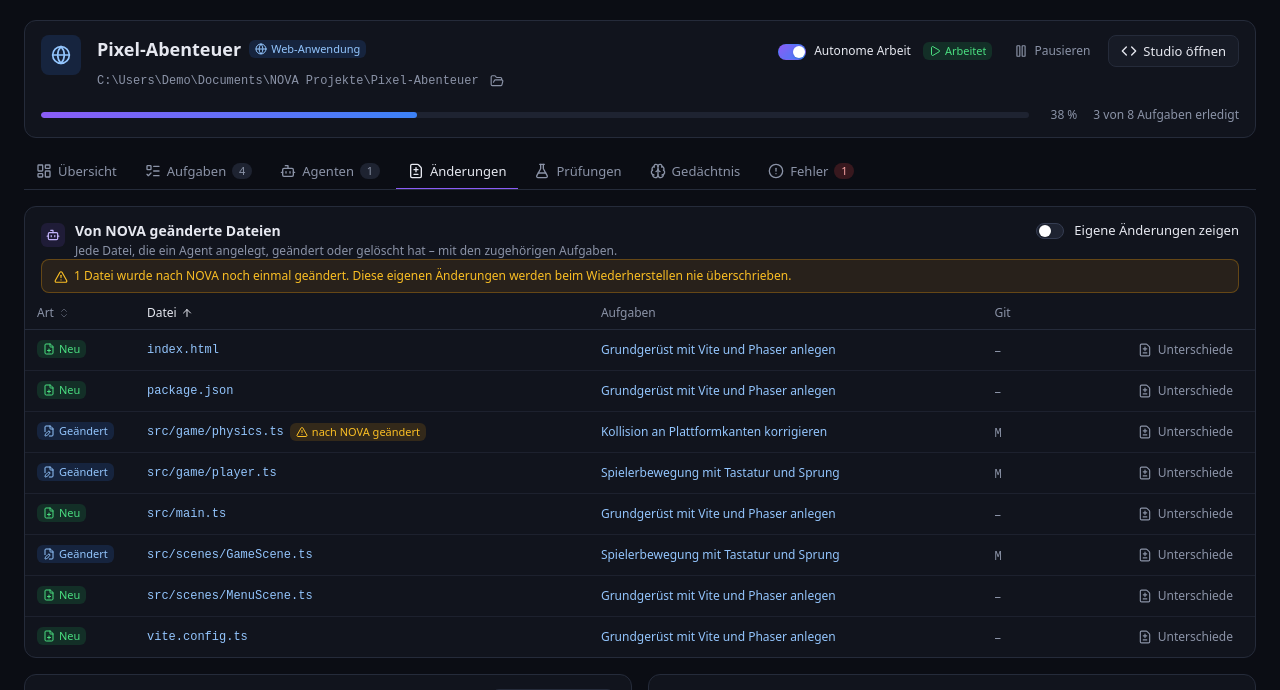
Test: Änderungen › shows the differences of a file
The image size is (1280, 690).
Click the button with aria-label "Unterschiede von src/game/player.ts anzeigen" at (1185, 473), box top-left (1128, 459), bottom-right (1243, 487)
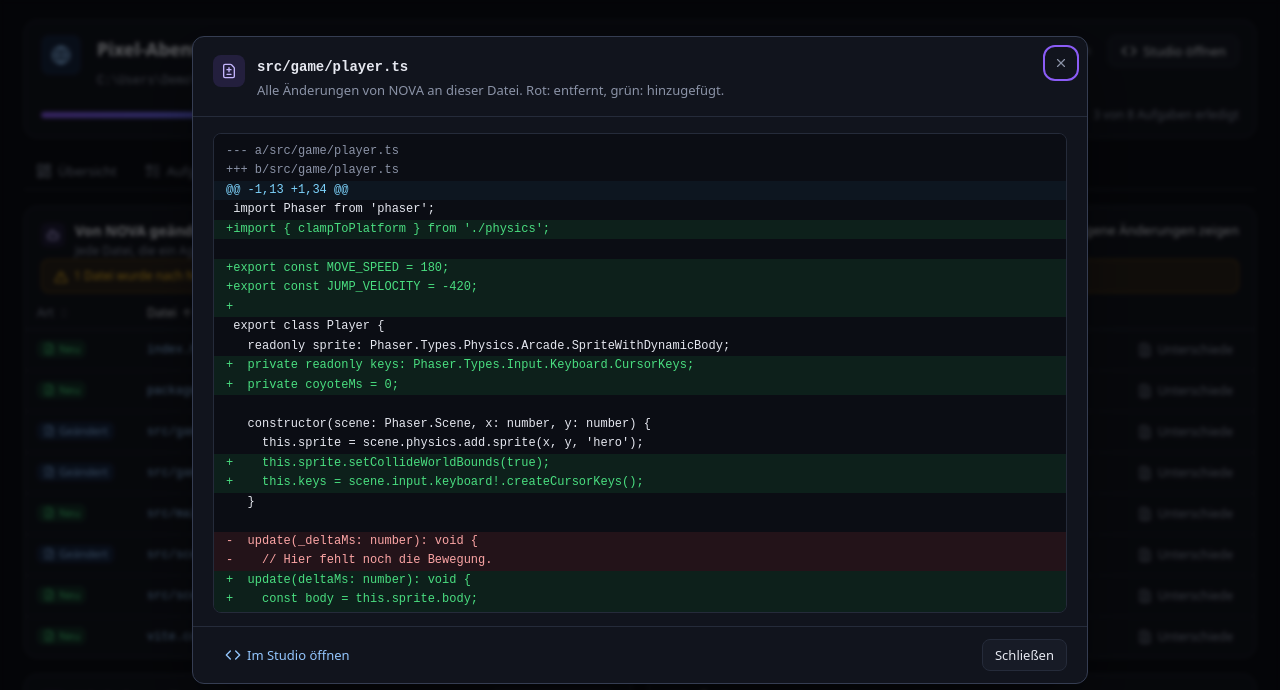
expect the element named "Unterschiede" is shown: met, box top-left (213, 133), bottom-right (1067, 613)
